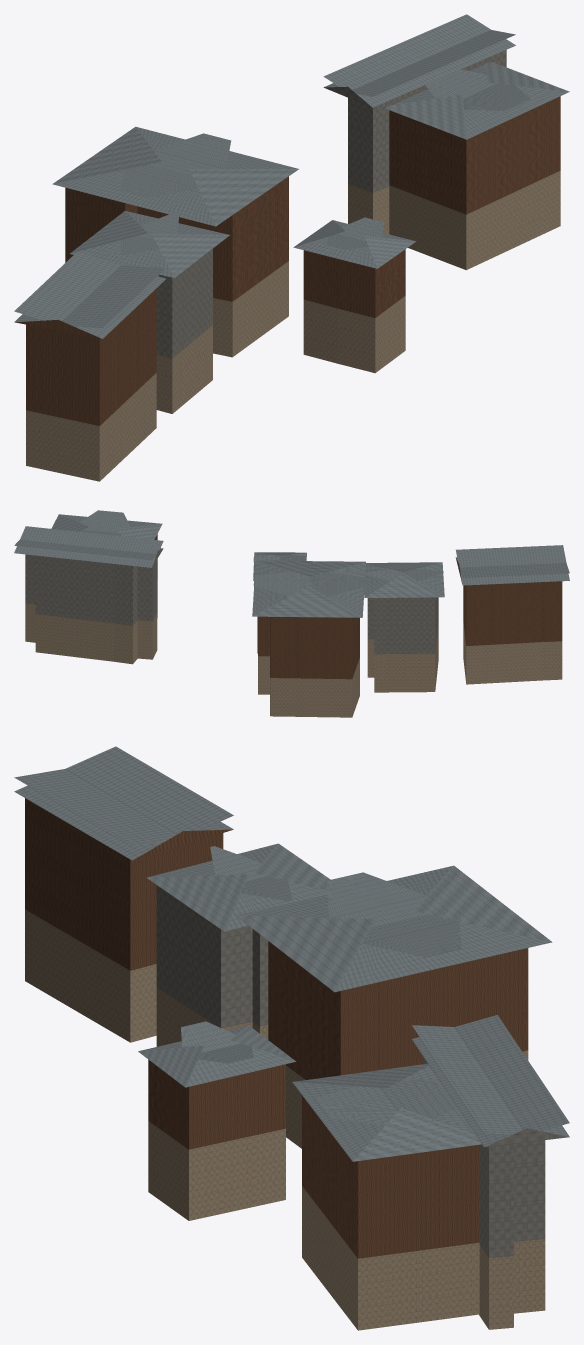
File: bld_c23_29_397.gltf
3 renders of one model, top to bottom at view 1: azimuth 30°, elevation 25°; view 2: azimuth 150°, elevation 25°; view 3: azimuth 270°, elevation 25°, orthographic. The views are drawn at different scales.
Visible parts, largest first — view 1: bld_c23_29_397; view 2: bld_c23_29_397; view 3: bld_c23_29_397.
Boxes of the visible parts, x1=… form: bld_c23_29_397: x1=14, y1=14, x2=569, y2=481; bld_c23_29_397: x1=14, y1=510, x2=569, y2=717; bld_c23_29_397: x1=14, y1=746, x2=569, y2=1330.
Bounding box in the file's own units: 62.21 × 16.3 × 35.78.
6 materials, 6 textured.
